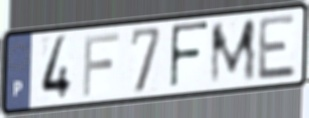4: (38, 32, 74, 104)
7: (130, 24, 163, 95)
E: (256, 12, 298, 83)
F: (168, 20, 211, 92), (80, 30, 121, 98)
M: (208, 16, 259, 88)
